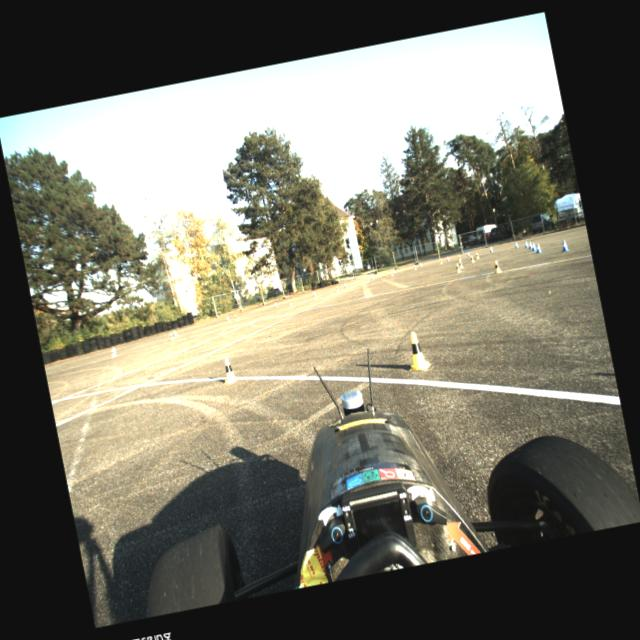blue_cone: (560, 240, 570, 252), (535, 242, 543, 254), (531, 242, 537, 252), (172, 330, 178, 338), (524, 240, 529, 248), (528, 241, 533, 249), (113, 346, 117, 354), (343, 282, 348, 288), (514, 241, 518, 248), (466, 251, 470, 257), (312, 290, 316, 296), (274, 301, 278, 307), (226, 315, 230, 321), (446, 256, 450, 261), (370, 275, 374, 280), (489, 247, 492, 252), (392, 269, 395, 274), (420, 262, 422, 267)
yellow_cone: (403, 330, 432, 373), (218, 356, 238, 385), (492, 260, 502, 274), (454, 263, 462, 273), (110, 348, 117, 358), (458, 260, 464, 269), (474, 252, 480, 260), (457, 254, 462, 261), (470, 255, 474, 263), (234, 314, 238, 321), (288, 299, 292, 306), (412, 265, 417, 270), (335, 286, 339, 292), (438, 258, 442, 264), (170, 332, 173, 339), (391, 271, 394, 276), (366, 278, 369, 282)
